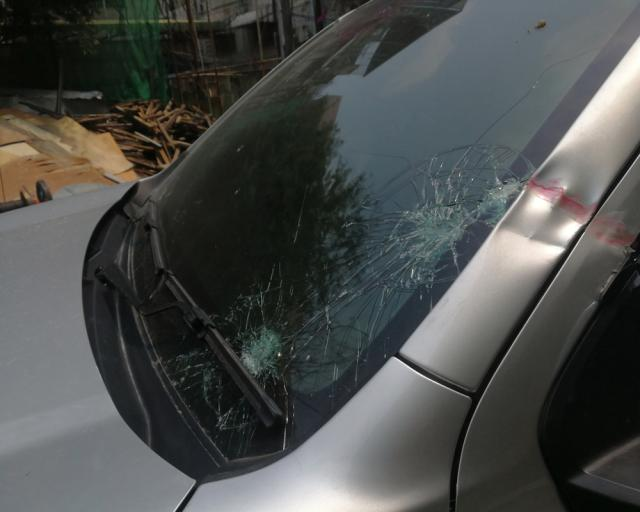dent: (493, 149, 602, 258)
glass shatter: (133, 0, 640, 461)
